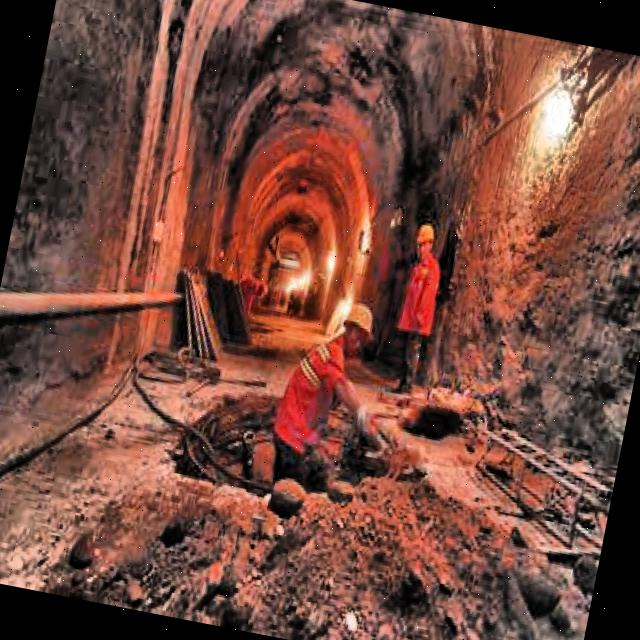helmet: (329, 294, 382, 366), (409, 217, 440, 268)
